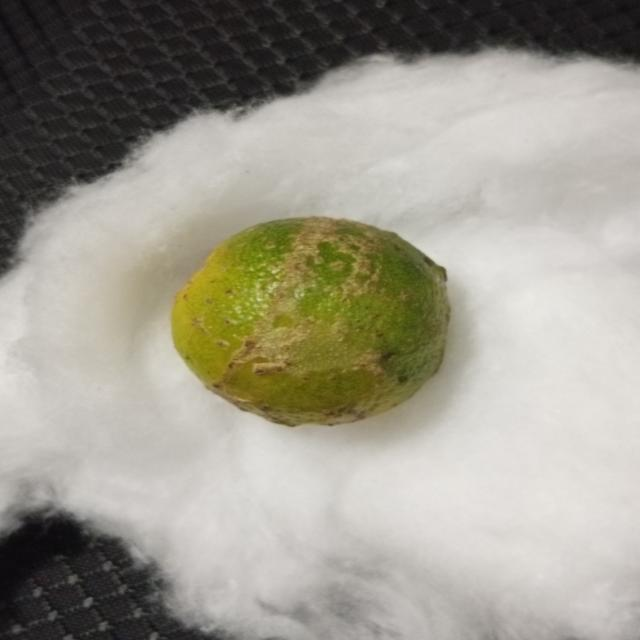thrips: (170, 217, 458, 425)
